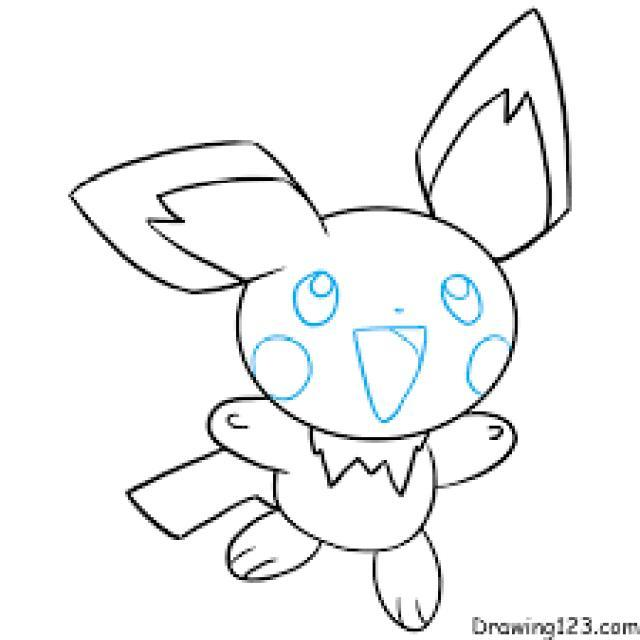pichu: (70, 22, 603, 638)
